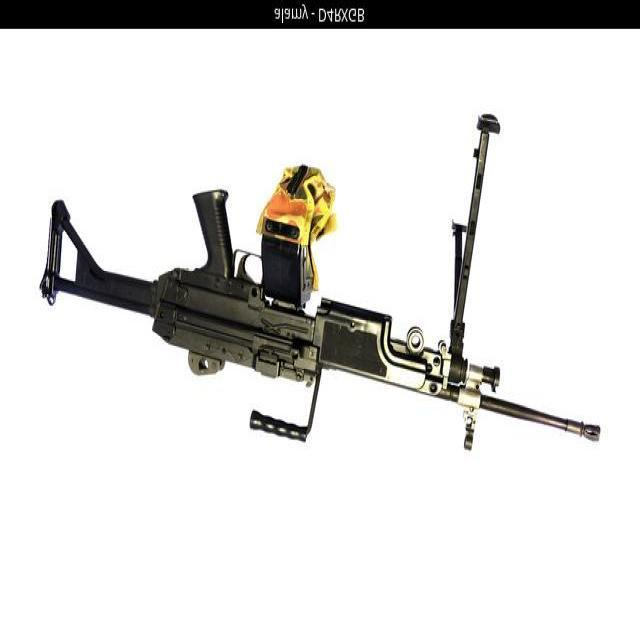weapon: (39, 112, 603, 450)
